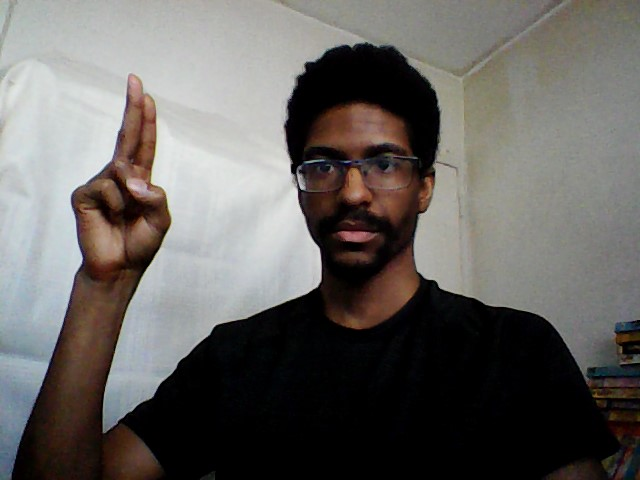u: (70, 66, 177, 280)
